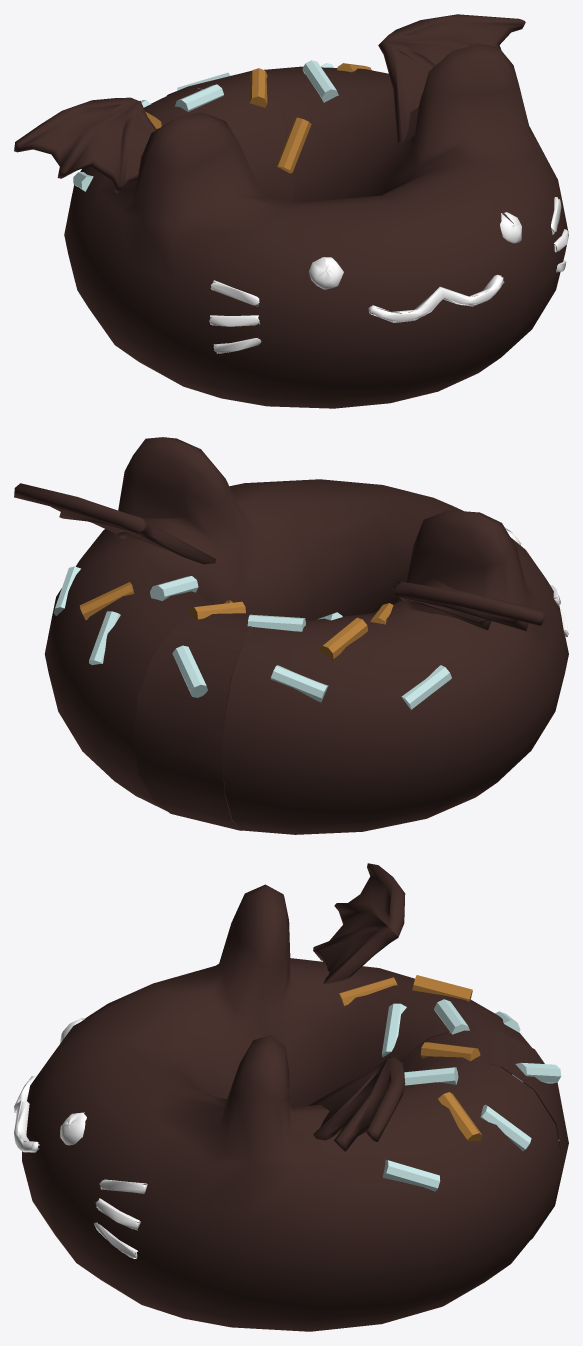
Rendered from donut1.glb.
3 renders of one model, top to bottom at view 1: azimuth 30°, elevation 25°; view 2: azimuth 150°, elevation 25°; view 3: azimuth 270°, elevation 25°, orthographic. The views are drawn at different scales.
Parts seen in each view (by area): view 1: Donut1; view 2: Donut1; view 3: Donut1.
Part boxes in pixels (x1,y1,x2,y2): Donut1: (14,14,568,408); Donut1: (14,437,568,834); Donut1: (14,863,568,1331).
Bounding box in the file's own units: 2.53 × 1.24 × 2.19.
